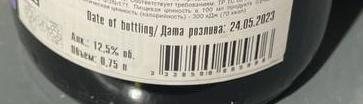1d: (157, 28, 275, 72)
